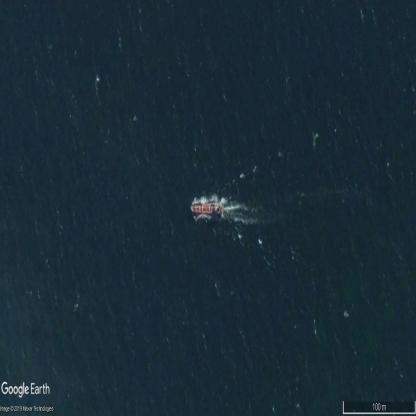ship: (192, 204, 222, 216)
